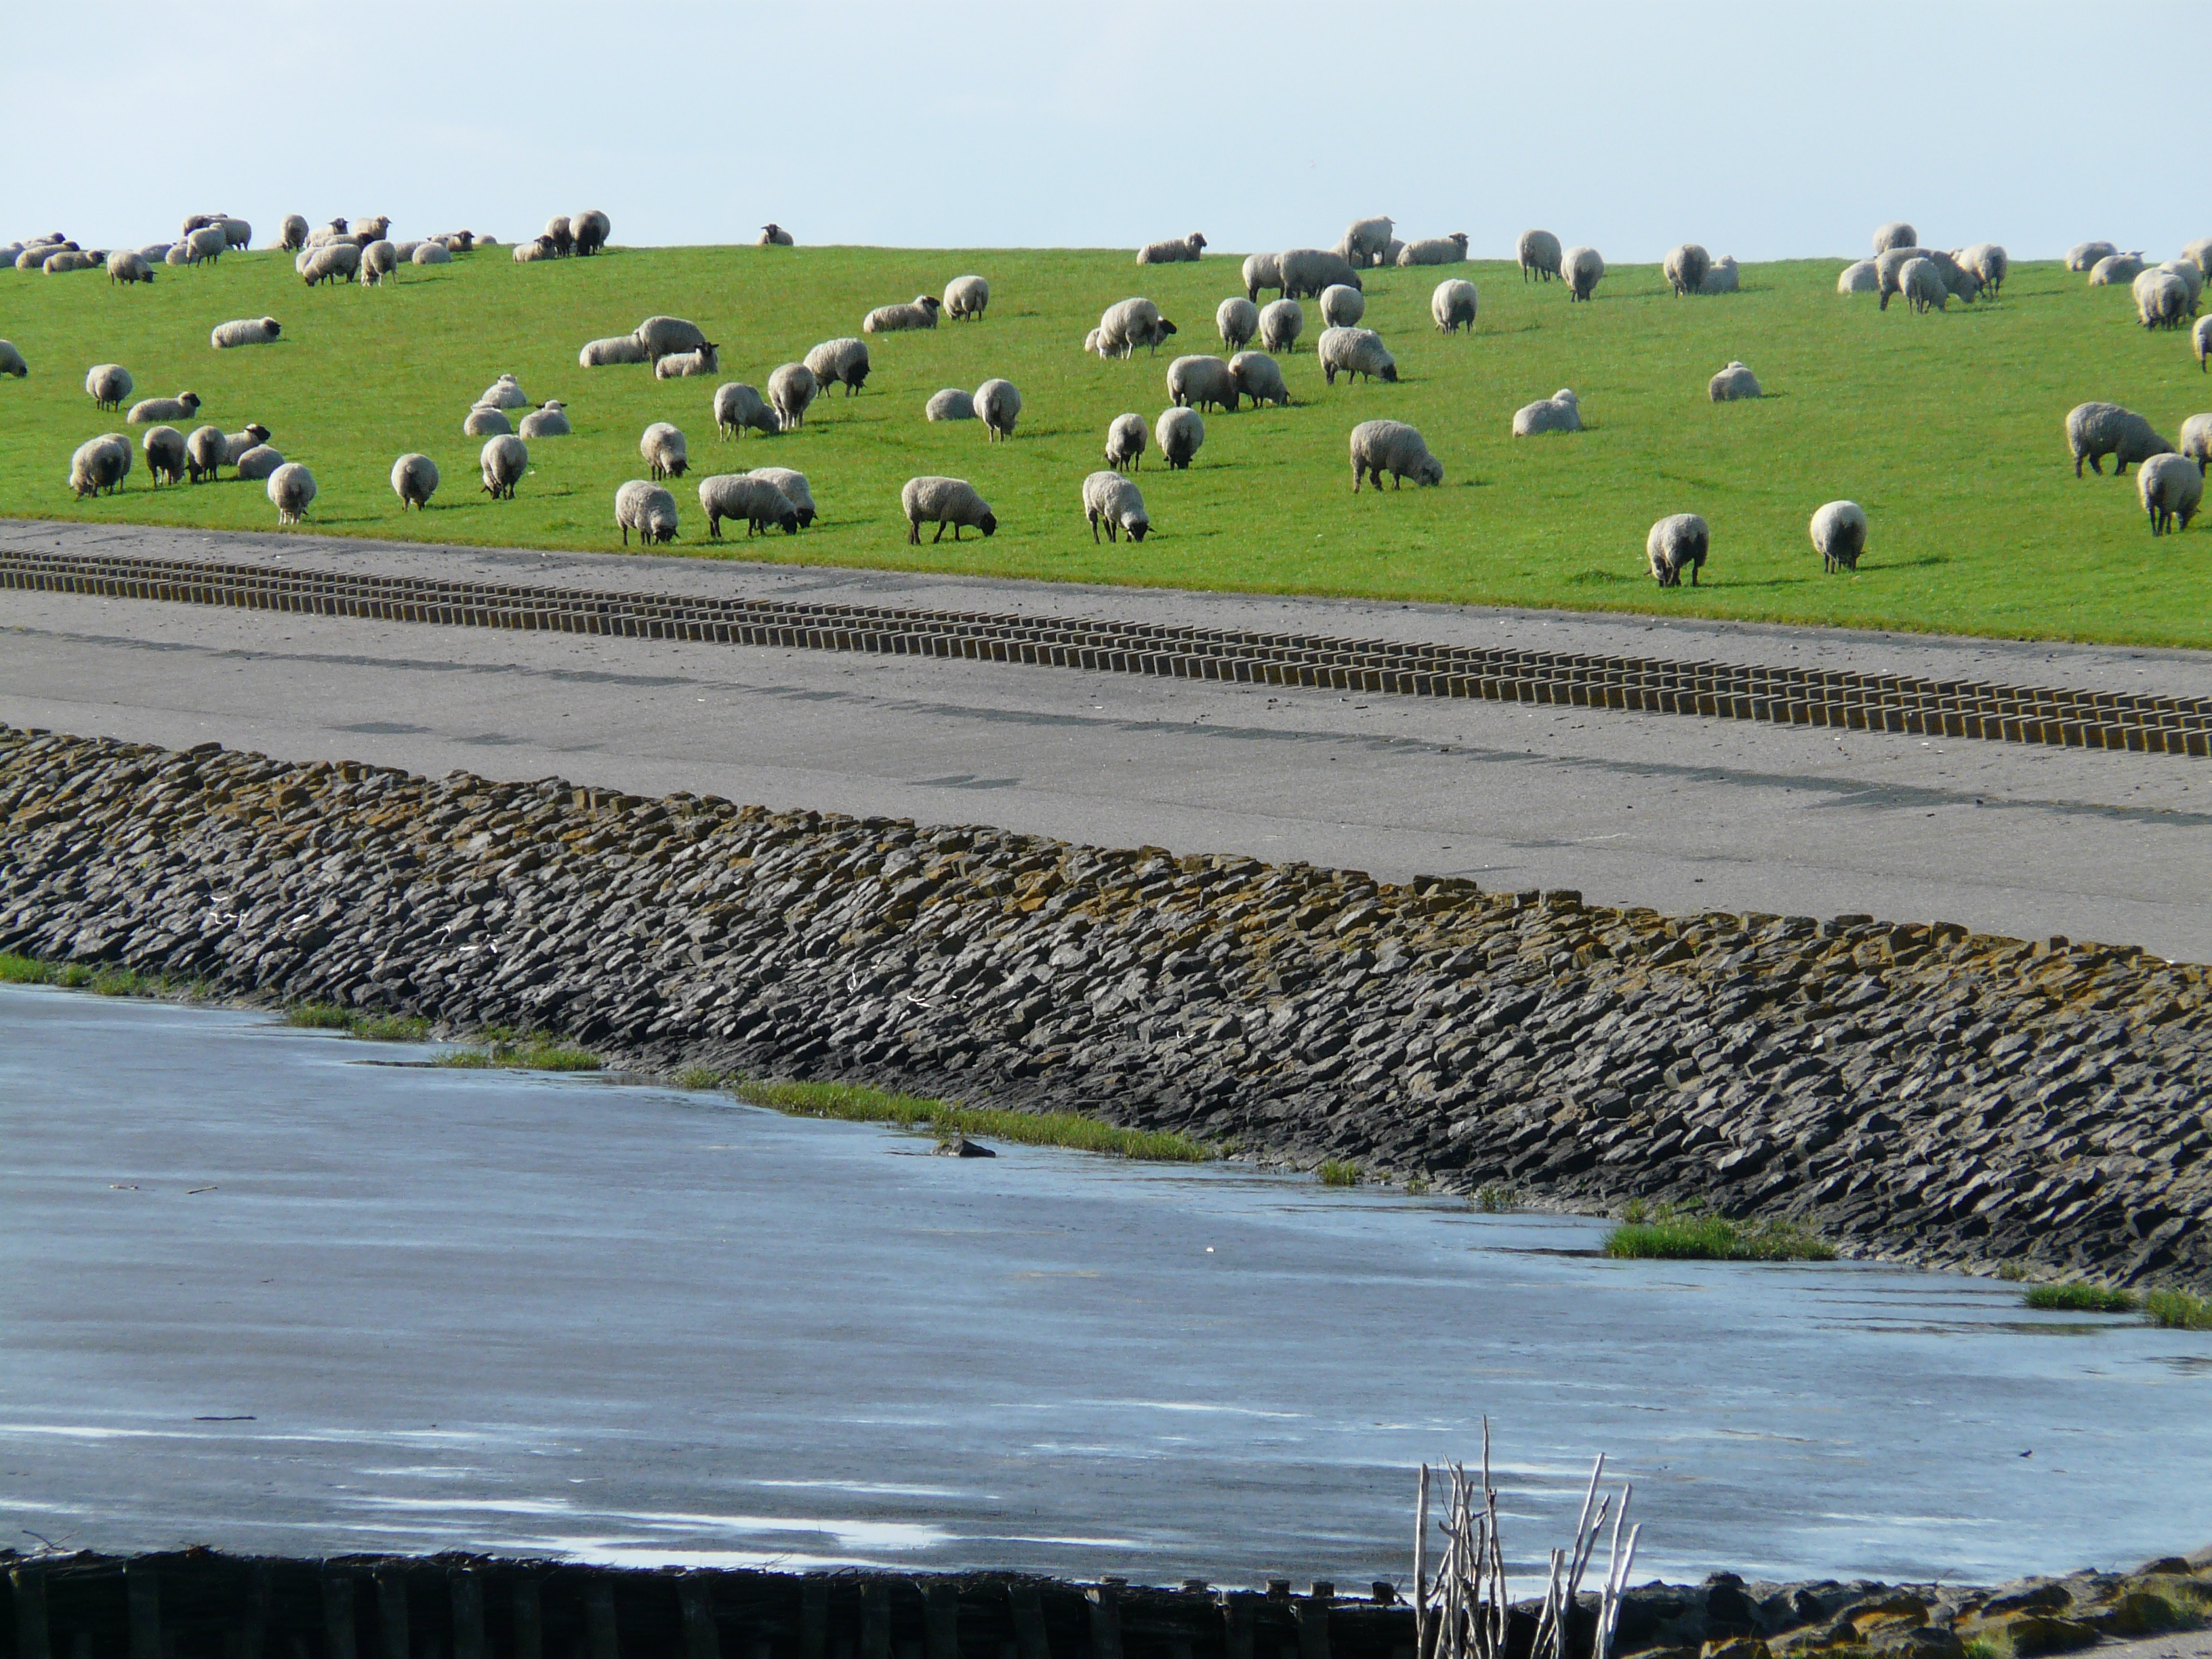sheep: (2069, 403, 2177, 479), (1345, 416, 1446, 495), (897, 474, 998, 545), (697, 474, 799, 540), (1876, 249, 1980, 312), (1082, 471, 1157, 545), (2137, 451, 2203, 535), (1646, 509, 1716, 587), (744, 465, 819, 533), (1317, 324, 1399, 383), (1090, 296, 1160, 362), (1808, 500, 1871, 572), (71, 429, 132, 500), (1163, 350, 1235, 411), (615, 479, 678, 547), (801, 336, 869, 399), (1275, 249, 1366, 295), (714, 382, 782, 441), (1228, 350, 1294, 410), (266, 457, 322, 525), (477, 434, 529, 505), (143, 422, 192, 495), (768, 357, 817, 430), (1510, 389, 1580, 439), (637, 317, 714, 362), (864, 293, 944, 335), (1153, 406, 1205, 469), (974, 378, 1021, 443), (2137, 277, 2191, 331), (1519, 228, 1571, 284), (641, 422, 691, 479), (1430, 277, 1480, 335), (1099, 413, 1146, 474), (1393, 230, 1472, 267), (305, 237, 361, 288), (129, 387, 206, 423), (1252, 293, 1301, 350), (390, 451, 437, 511), (1212, 291, 1258, 350), (1667, 237, 1714, 293), (84, 361, 136, 410), (221, 418, 270, 471), (1902, 256, 1949, 310), (1136, 234, 1207, 268), (1345, 216, 1397, 263), (1956, 244, 2012, 288), (1561, 247, 1606, 300), (1707, 361, 1759, 406), (186, 422, 223, 486), (1318, 281, 1366, 329), (2085, 251, 2146, 288), (944, 274, 989, 322), (523, 397, 573, 441), (212, 317, 282, 349), (467, 399, 514, 443), (361, 240, 401, 289), (2165, 260, 2203, 310), (19, 240, 78, 272), (105, 249, 155, 286), (186, 223, 226, 268), (343, 213, 394, 247), (568, 211, 604, 258), (42, 247, 105, 274), (303, 218, 348, 249), (510, 234, 557, 263), (430, 228, 477, 254), (756, 220, 794, 251), (277, 214, 308, 251), (413, 235, 449, 267)
